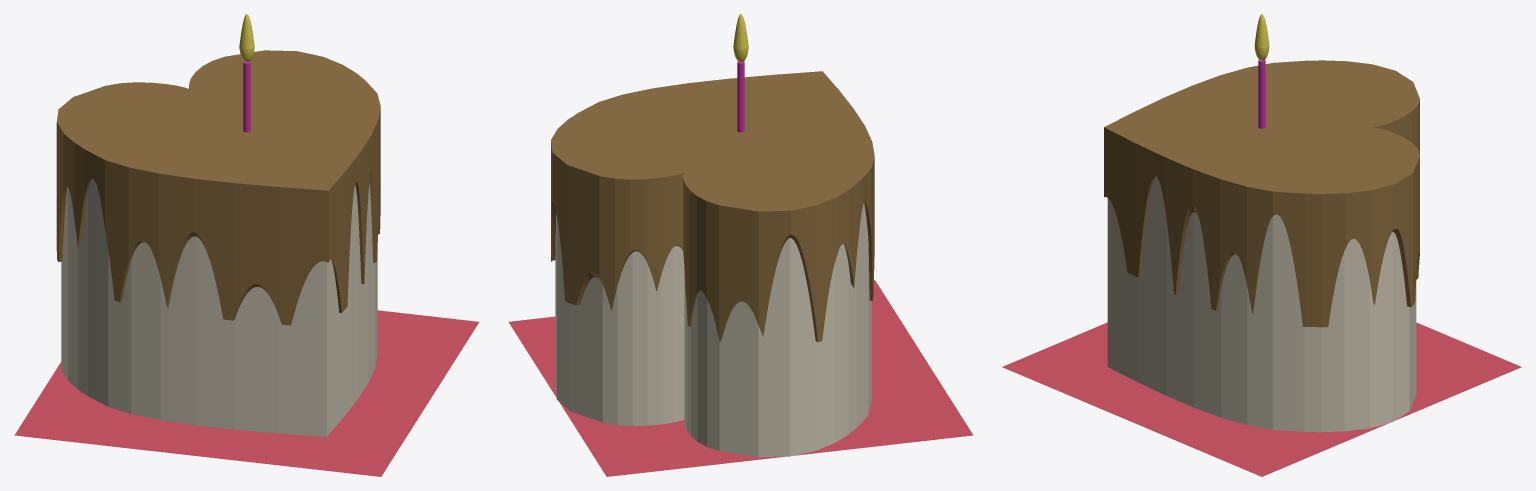
Rendered from vanilla.glb.
The picture shows the model from 3 angles, left to right: view 1: azimuth 30°, elevation 25°; view 2: azimuth 150°, elevation 25°; view 3: azimuth 270°, elevation 25°; orthographic projection. The views are drawn at different scales.
Visible parts, largest first — view 1: Mesh_Mesh_head_geo.001_lambert2SG.001; view 2: Mesh_Mesh_head_geo.001_lambert2SG.001; view 3: Mesh_Mesh_head_geo.001_lambert2SG.001.
Boxes of the visible parts, x1=… form: Mesh_Mesh_head_geo.001_lambert2SG.001: x1=14, y1=14, x2=479, y2=476; Mesh_Mesh_head_geo.001_lambert2SG.001: x1=508, y1=14, x2=973, y2=476; Mesh_Mesh_head_geo.001_lambert2SG.001: x1=1002, y1=14, x2=1521, y2=476.
Size of the model in its own units: 0.0354 by 0.0265 by 0.0354.
